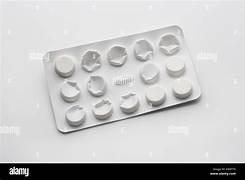pill_Strip: (138, 61, 166, 107)
